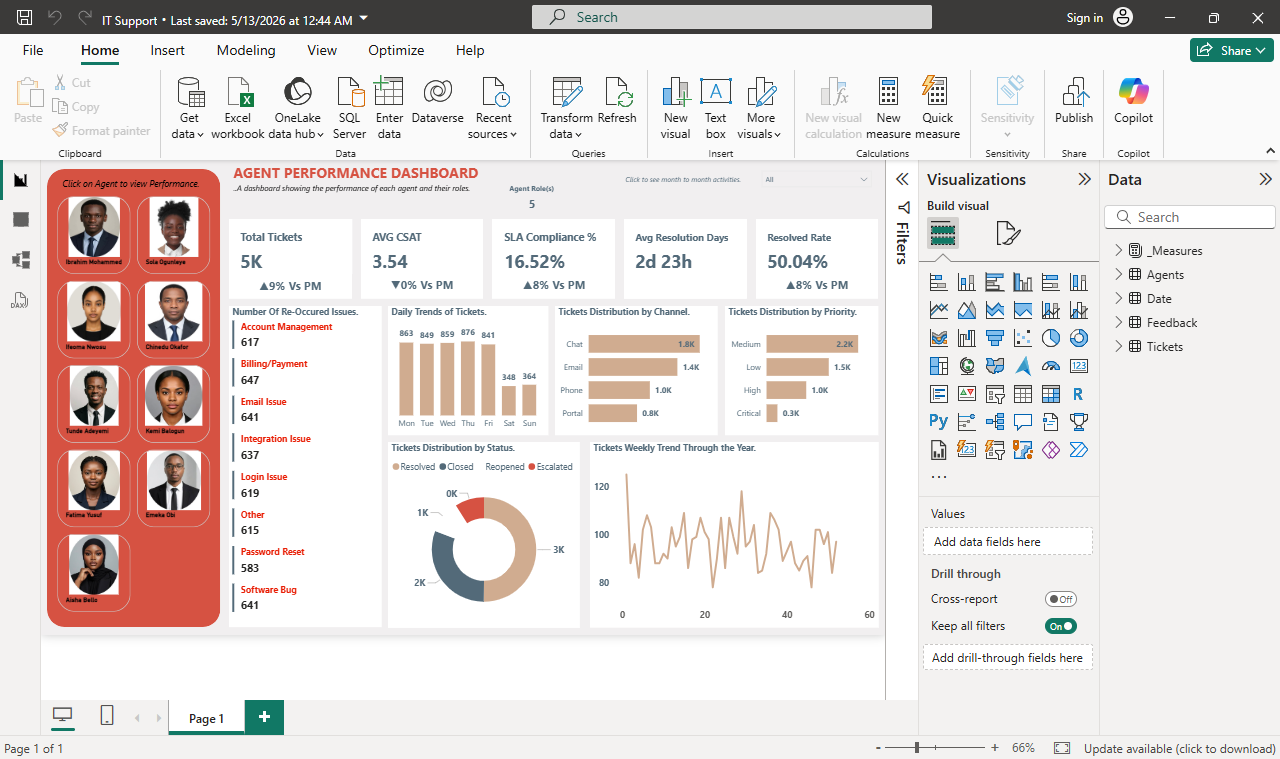

The dashboard page shown, as its layout file describes it:
{"tool":"powerbi","page":{"name":"Page 1","canvas":[1280,720],"ordinal":0},"visuals":[{"type":"shape","box":[9.5,13.3,262.9,694.6],"z":0},{"type":"advancedSlicerVisual","fields":{"Values":["Agents.Image URL"]},"box":[19,50.6,242.1,642.4],"z":1000},{"type":"textbox","box":[285.9,0,397.6,73.8],"z":2000},{"type":"shape","box":[285.1,89.5,186.5,121.3],"z":3000},{"type":"shape","box":[485.3,89.5,185,121.3],"z":4000},{"type":"shape","box":[684,89.5,186.5,121.3],"z":5000},{"type":"shape","box":[884.2,89.5,186.5,121.3],"z":6000},{"type":"shape","box":[1084.4,89.5,185,121.3],"z":7000},{"type":"shape","box":[285.6,221.7,231.6,487.2],"z":8000},{"type":"shape","box":[1037.9,221.5,232.6,196.2],"z":9000},{"type":"shape","box":[780,221.5,246.8,196.2],"z":10000},{"type":"shape","box":[527,222,243,195],"z":11000},{"type":"shape","box":[832.2,427.2,438.3,281.6],"z":12000},{"type":"shape","box":[527,427,291,282],"z":13000},{"type":"multiRowCard","title":"Number Of Re-Occured Issues.","fields":{"Values":["Tickets.IssueType","_Measures.Total Tickets"]},"box":[285.6,221.7,231.6,487.2],"z":14000},{"type":"columnChart","title":"Daily Trends of Tickets.","fields":{"Category":["Date.DayNameShort"],"Y":["_Measures.Total Tickets"]},"box":[527,222,243,196],"z":15000},{"type":"barChart","title":"Tickets Distribution by Channel. ","fields":{"Category":["Tickets.Channel"],"Y":["_Measures.Total Tickets"]},"box":[780,221.5,246.8,196.2],"z":16000},{"type":"donutChart","title":"Tickets Distribution by Status.","fields":{"Category":["Tickets.Status"],"Y":["_Measures.Total Tickets"]},"box":[526.3,427.7,291.2,280.6],"z":17000},{"type":"clusteredBarChart","title":"Tickets Distribution by Priority. ","fields":{"Y":["_Measures.Total Tickets"],"Category":["Tickets.Priority"]},"box":[1037.9,221.5,232.6,196.2],"z":18000},{"type":"lineChart","title":"Tickets Weekly Trend Through the Year.","fields":{"Y":["_Measures.Total Tickets"],"Category":["Date.WeekOfYear"]},"box":[832.6,427.7,438.3,280.6],"z":19000},{"type":"textbox","box":[26.9,20.6,226.3,30.1],"z":20000},{"type":"cardVisual","fields":{"Data":["_Measures.Total Tickets"]},"box":[285.1,89.5,186.5,83.4],"z":21000},{"type":"card","fields":{"Values":["_Measures.Tickets_MOM"]},"box":[284.8,172.5,186.7,38],"z":22000},{"type":"cardVisual","fields":{"Data":["_Measures.AVG CSAT"]},"box":[485.3,89.5,185,81.9],"z":23000},{"type":"card","fields":{"Values":["_Measures.AVGCSAT_MOM"]},"box":[485,172,186,38],"z":24000},{"type":"cardVisual","fields":{"Data":["_Measures.SLA Compliance %"]},"box":[685.5,89.5,185,81.9],"z":25000},{"type":"card","fields":{"Values":["_Measures.SLA Compliance_MOM"]},"box":[685,172,186,38],"z":26000},{"type":"cardVisual","fields":{"Data":["_Measures.Avg Resolution Time"]},"box":[884.2,89.5,185,121.3],"z":27000},{"type":"cardVisual","fields":{"Data":["_Measures.Resolved Rate"]},"box":[1084.4,89.5,185,81.9],"z":28000},{"type":"card","fields":{"Values":["_Measures.MOM_Resolved Rate"]},"box":[1084,172,186,38],"z":29000},{"type":"slicer","fields":{"Values":["Date.MonthName"]},"box":[1082.8,6.1,186.5,50],"z":30000},{"type":"card","fields":{"Values":["_Measures.Agents Role"]},"box":[451.9,53.1,585.4,31.8],"z":31000},{"type":"textbox","box":[881.1,13.6,201.7,28.8],"z":32000},{"type":"textbox","box":[705.3,26.7,89.3,29.3],"z":32001}]}

Visuals, with their boxes on the page's 1280x720 design canvas (x1, y1, x2, y2). These are canvas units, not pixel positions in the 1280x759 screenshot, which may show the page scaled, cropped or inside an application window:
shape: x1=10, y1=13, x2=272, y2=708
advancedSlicerVisual - Agents.Image URL: x1=19, y1=51, x2=261, y2=693
textbox: x1=286, y1=0, x2=684, y2=74
shape: x1=285, y1=90, x2=472, y2=211
shape: x1=485, y1=90, x2=670, y2=211
shape: x1=684, y1=90, x2=870, y2=211
shape: x1=884, y1=90, x2=1071, y2=211
shape: x1=1084, y1=90, x2=1269, y2=211
shape: x1=286, y1=222, x2=517, y2=709
shape: x1=1038, y1=222, x2=1270, y2=418
shape: x1=780, y1=222, x2=1027, y2=418
shape: x1=527, y1=222, x2=770, y2=417
shape: x1=832, y1=427, x2=1270, y2=709
shape: x1=527, y1=427, x2=818, y2=709
"Number Of Re-Occured Issues." multiRowCard: x1=286, y1=222, x2=517, y2=709
"Daily Trends of Tickets." columnChart: x1=527, y1=222, x2=770, y2=418
"Tickets Distribution by Channel. " barChart: x1=780, y1=222, x2=1027, y2=418
"Tickets Distribution by Status." donutChart: x1=526, y1=428, x2=818, y2=708
"Tickets Distribution by Priority. " clusteredBarChart: x1=1038, y1=222, x2=1270, y2=418
"Tickets Weekly Trend Through the Year." lineChart: x1=833, y1=428, x2=1271, y2=708
textbox: x1=27, y1=21, x2=253, y2=51
cardVisual - _Measures.Total Tickets: x1=285, y1=90, x2=472, y2=173
card - _Measures.Tickets_MOM: x1=285, y1=172, x2=472, y2=210
cardVisual - _Measures.AVG CSAT: x1=485, y1=90, x2=670, y2=171
card - _Measures.AVGCSAT_MOM: x1=485, y1=172, x2=671, y2=210
cardVisual - _Measures.SLA Compliance %: x1=686, y1=90, x2=870, y2=171
card - _Measures.SLA Compliance_MOM: x1=685, y1=172, x2=871, y2=210
cardVisual - _Measures.Avg Resolution Time: x1=884, y1=90, x2=1069, y2=211
cardVisual - _Measures.Resolved Rate: x1=1084, y1=90, x2=1269, y2=171
card - _Measures.MOM_Resolved Rate: x1=1084, y1=172, x2=1270, y2=210
slicer - Date.MonthName: x1=1083, y1=6, x2=1269, y2=56
card - _Measures.Agents Role: x1=452, y1=53, x2=1037, y2=85
textbox: x1=881, y1=14, x2=1083, y2=42
textbox: x1=705, y1=27, x2=795, y2=56
